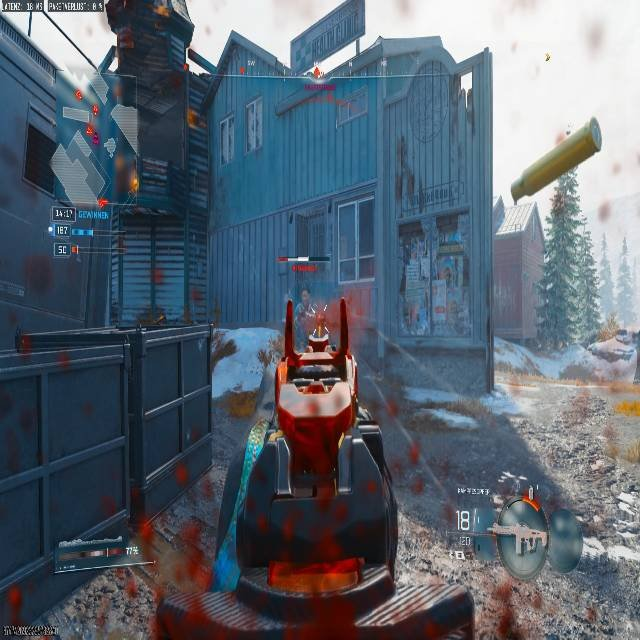head: (496, 470, 520, 497)
player: (587, 319, 636, 378)
